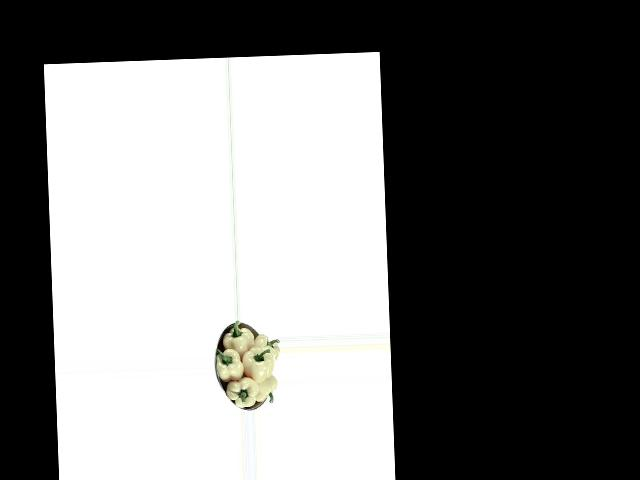bell_pepper: (251, 330, 279, 360)
